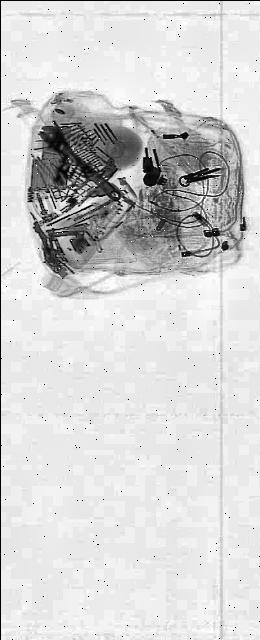Wrench: (36, 110, 122, 216)
